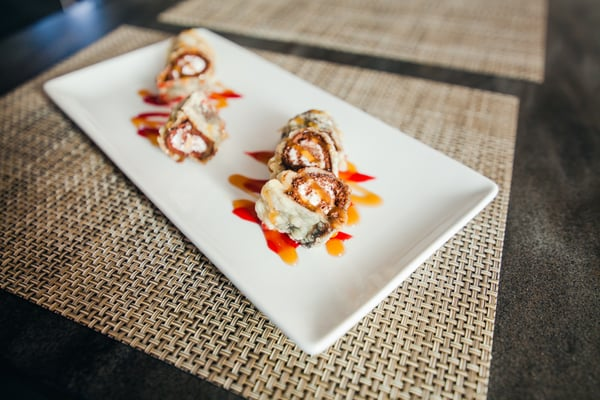curry: (4, 7, 536, 365)
